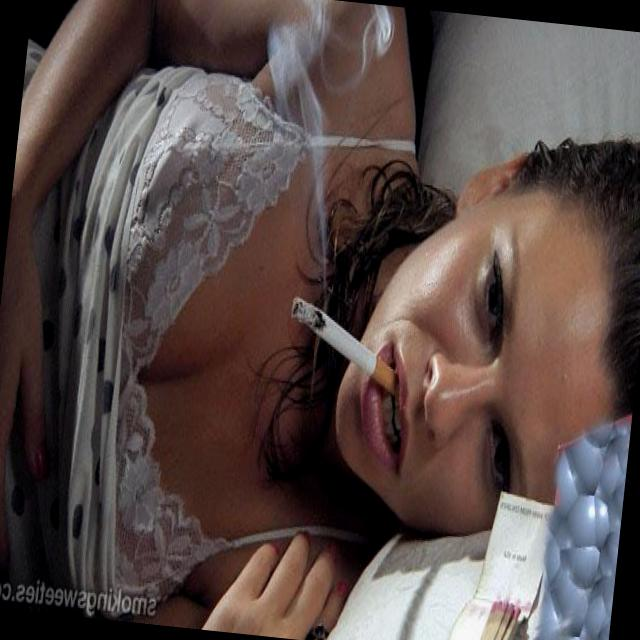smoke: (283, 298, 417, 410)
